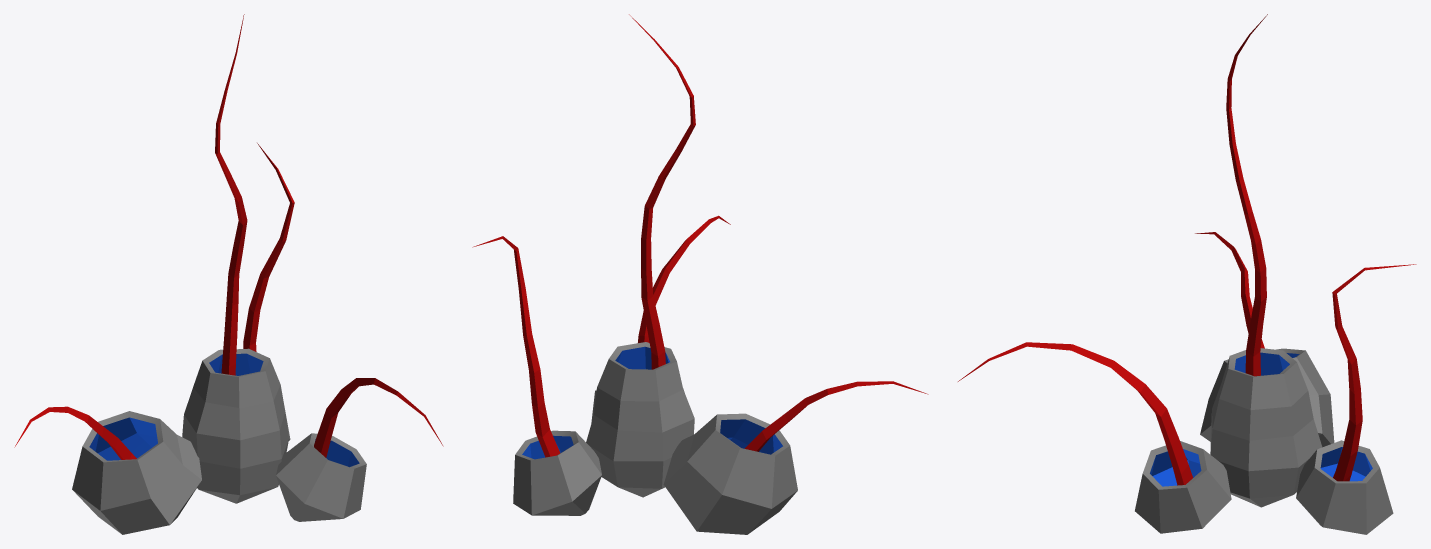
File: FungiFlagel03.fbx
3 renders of one model, left to right at view 1: azimuth 30°, elevation 25°; view 2: azimuth 150°, elevation 25°; view 3: azimuth 270°, elevation 25°, orthographic. The views are drawn at different scales.
Visible parts, largest first — view 1: FungiFlagel03_LOD0; view 2: FungiFlagel03_LOD0; view 3: FungiFlagel03_LOD0.
Part boxes in pixels (box(x1,y1,x2,y2)): FungiFlagel03_LOD0: box(14, 14, 443, 534); FungiFlagel03_LOD0: box(472, 14, 928, 534); FungiFlagel03_LOD0: box(958, 14, 1416, 534).
Size of what is drawn, in the model's own units: 108 by 143 by 119.
